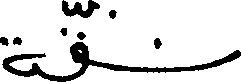X: (0, 32, 33, 81), (71, 0, 85, 81), (231, 45, 240, 65)
